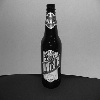beer: (40, 2, 66, 87)
